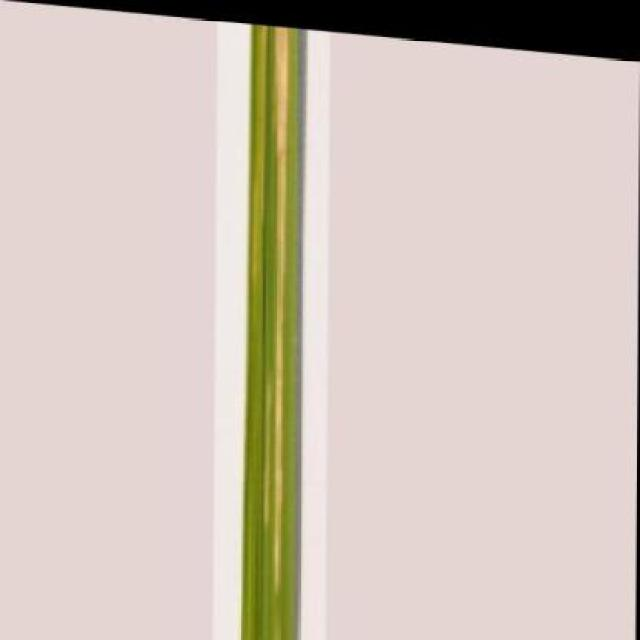Brown_Spot: (237, 17, 312, 640)
